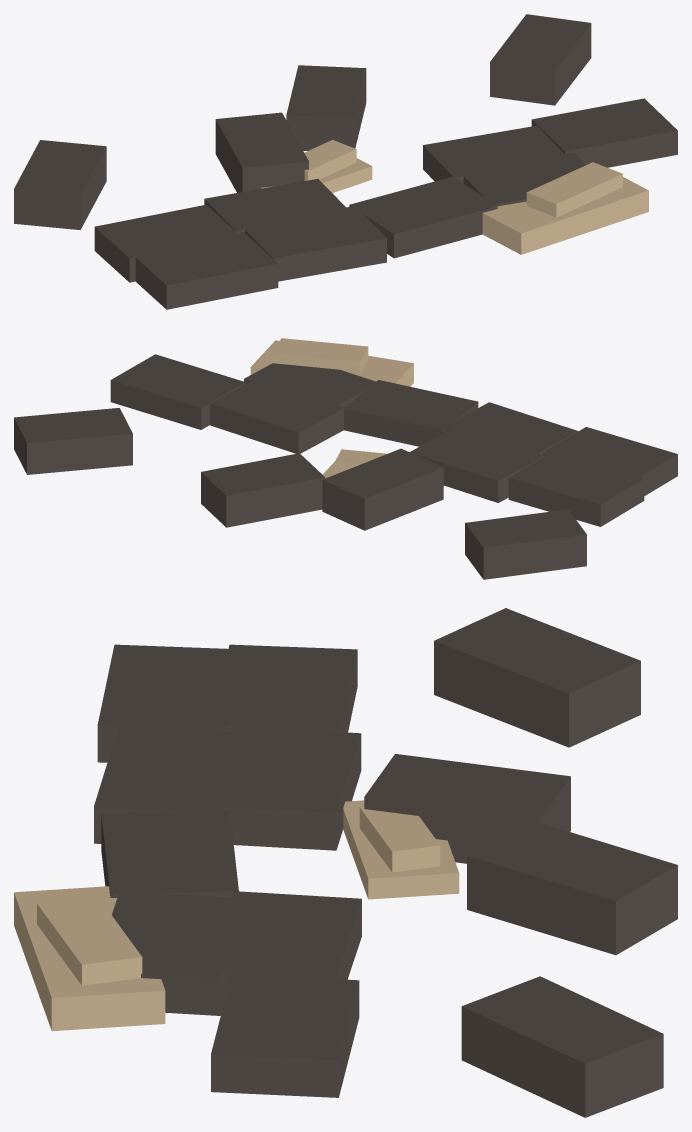
File: SM_PretilTramo_v2_Irregular_e3_Brecha_LOD0.fbx
3 views of the same model, one above another, from view 1: azimuth 30°, elevation 25°; view 2: azimuth 150°, elevation 25°; view 3: azimuth 270°, elevation 25° (orthographic). The views are drawn at different scales.
Parts seen in each view (by area): view 1: SM_pretil_azotea_v11_LOD0; view 2: SM_pretil_azotea_v11_LOD0; view 3: SM_pretil_azotea_v11_LOD0.
Boxes of the visible parts, x1,y1,x2,y2 form: SM_pretil_azotea_v11_LOD0: [14, 14, 677, 309]; SM_pretil_azotea_v11_LOD0: [14, 338, 677, 579]; SM_pretil_azotea_v11_LOD0: [14, 608, 677, 1117].
Size of the model in its own units: 4.69 by 0.26 by 2.89.
